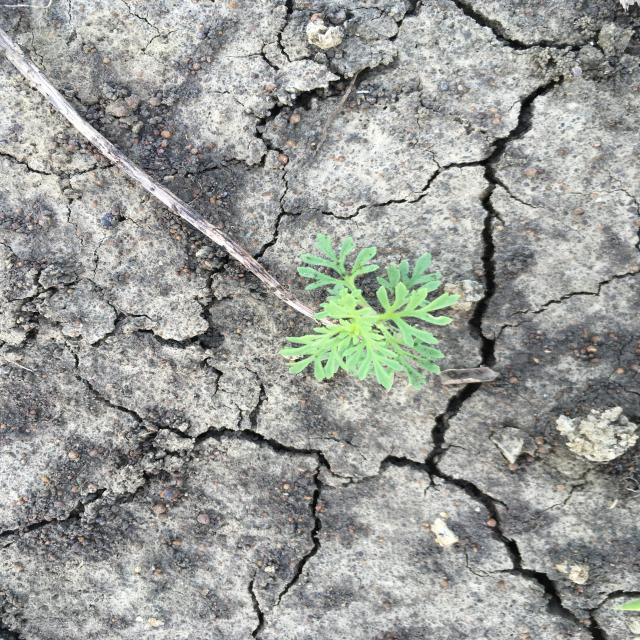Ragweed: (277, 231, 464, 394)
